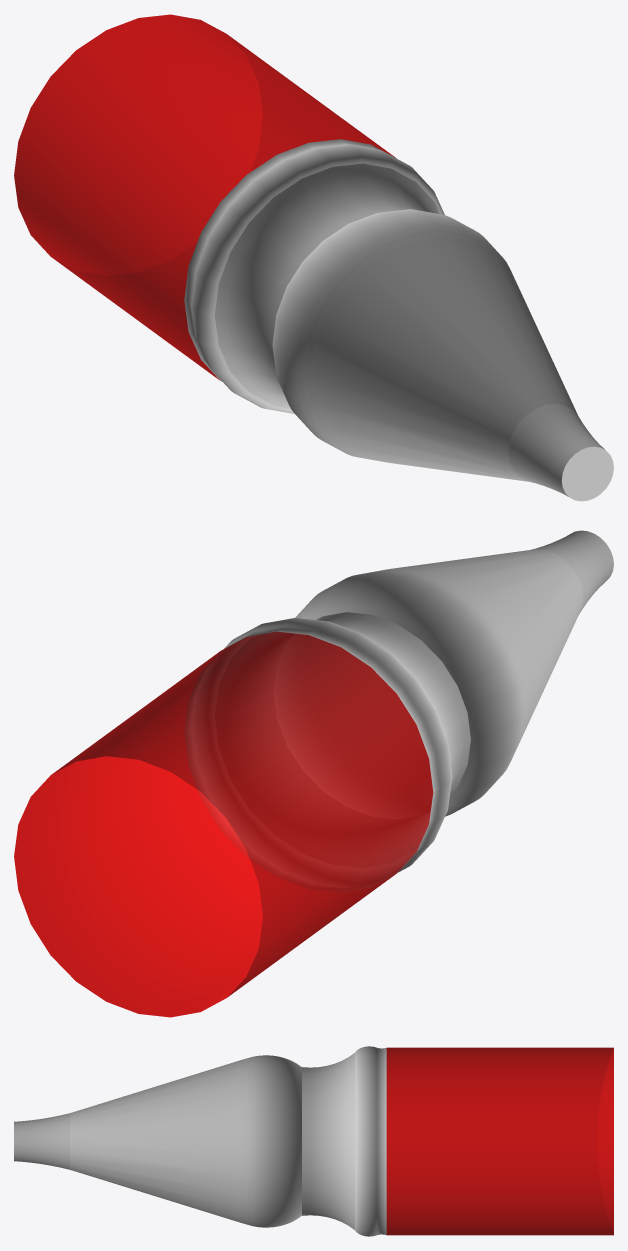
File: model_scale.obj
The picture shows the model from 3 angles, top to bottom: view 1: azimuth 30°, elevation 25°; view 2: azimuth 150°, elevation 25°; view 3: azimuth 270°, elevation 25°; orthographic projection. The views are drawn at different scales.
Parts seen in each view (by area): view 1: mesh1_mesh1-geometry; view 2: mesh1_mesh1-geometry; view 3: mesh1_mesh1-geometry.
Part boxes in pixels (x1,y1,x2,y2): mesh1_mesh1-geometry: (14,14,613,501); mesh1_mesh1-geometry: (14,530,613,1017); mesh1_mesh1-geometry: (14,1046,613,1236).
Bounding box in the file's own units: 0.0633 × 0.0617 × 0.1951.
